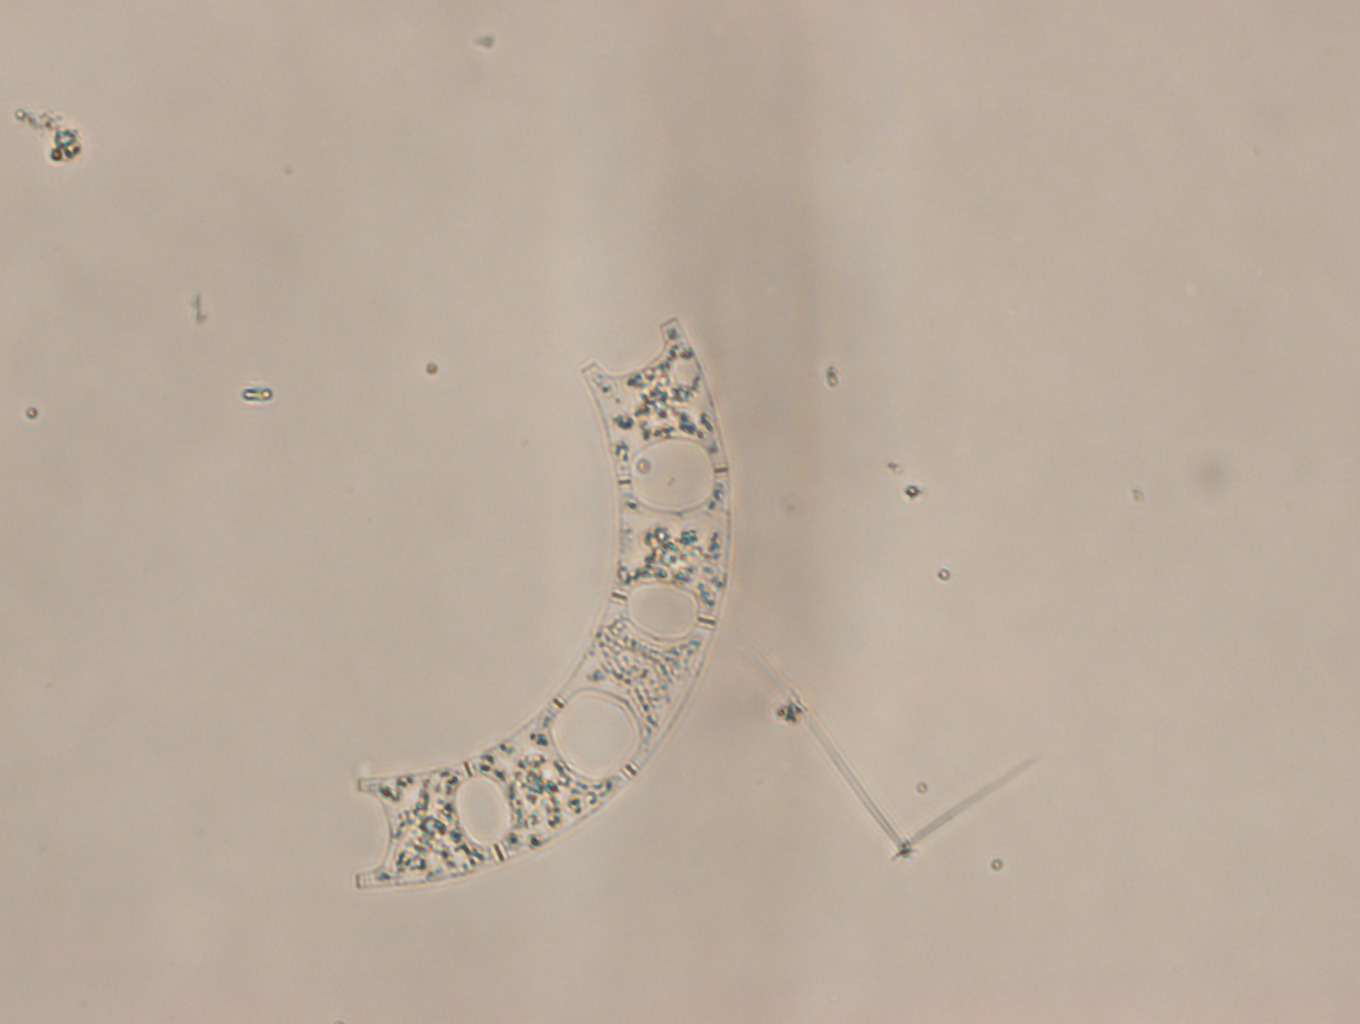eucampia: (353, 313, 734, 895)
